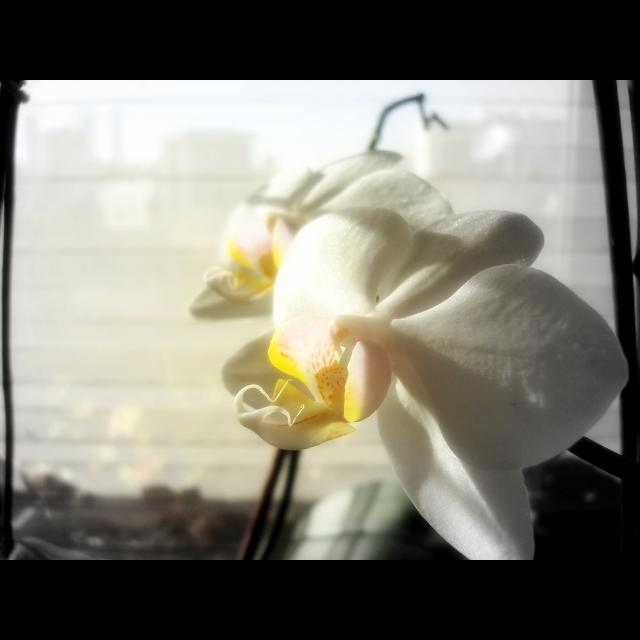Flower: (190, 163, 604, 534)
